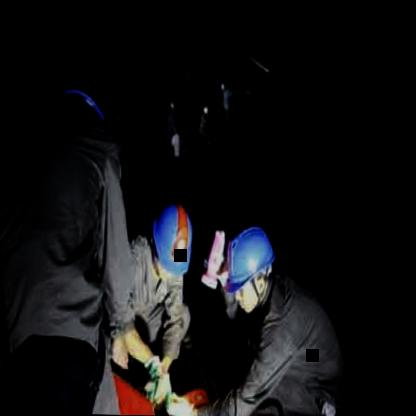helmet: (224, 216, 279, 318), (149, 202, 197, 278)
